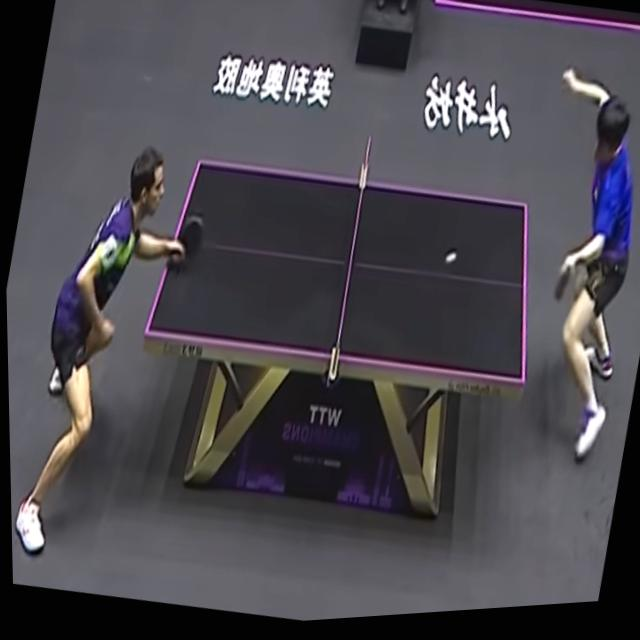TT Net: (327, 132, 374, 384)
TT Racket: (175, 211, 209, 261), (552, 258, 574, 307)
TT Table: (144, 158, 529, 382)
